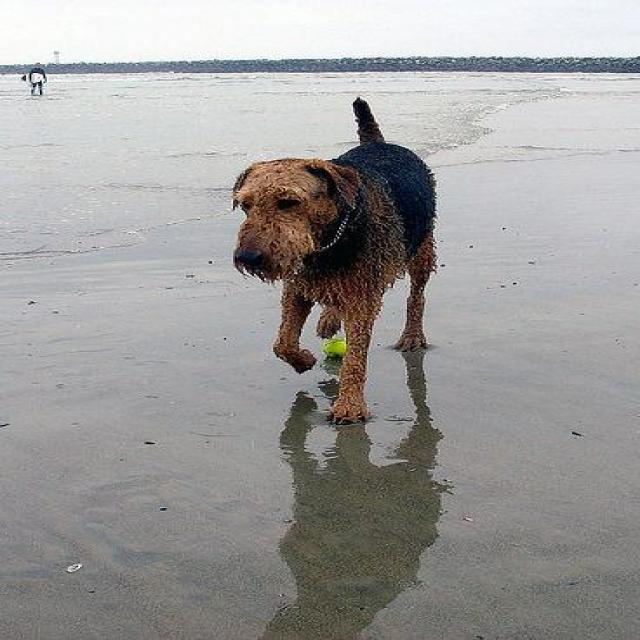airedale: (229, 96, 436, 424)
